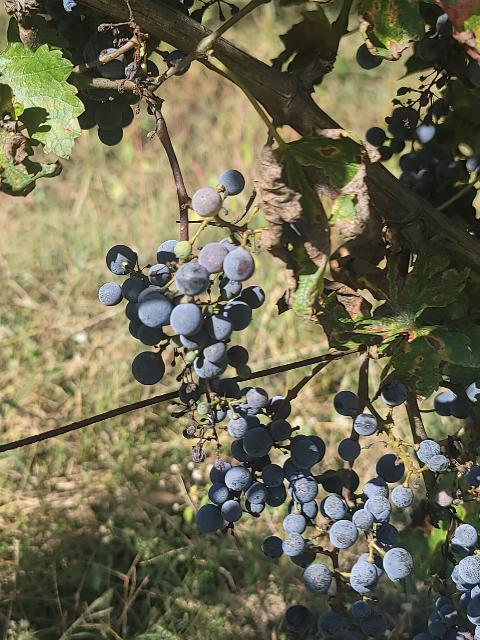grapes: (99, 239, 269, 459), (282, 410, 412, 640), (321, 454, 412, 596), (196, 406, 292, 531)
